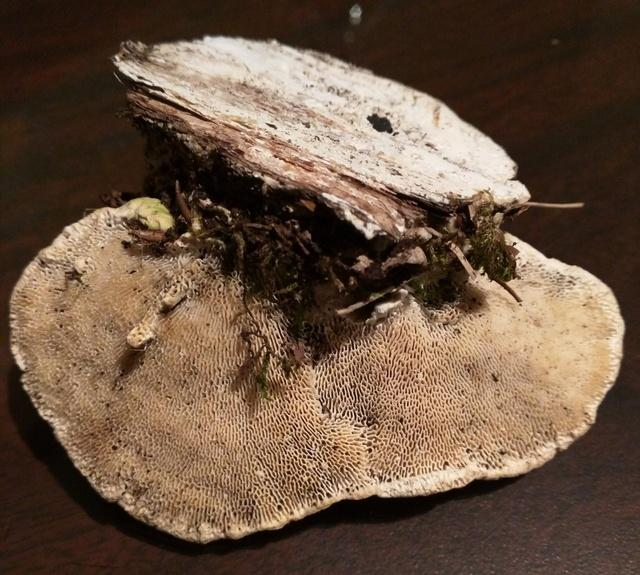poisonous_mushroom: (6, 32, 626, 545)
